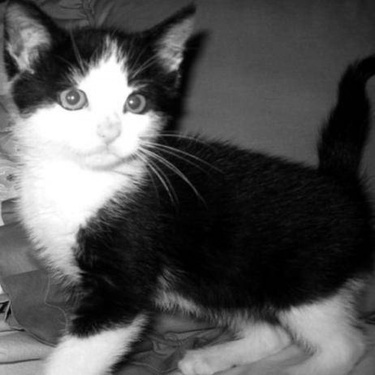cat: (9, 11, 365, 367)
